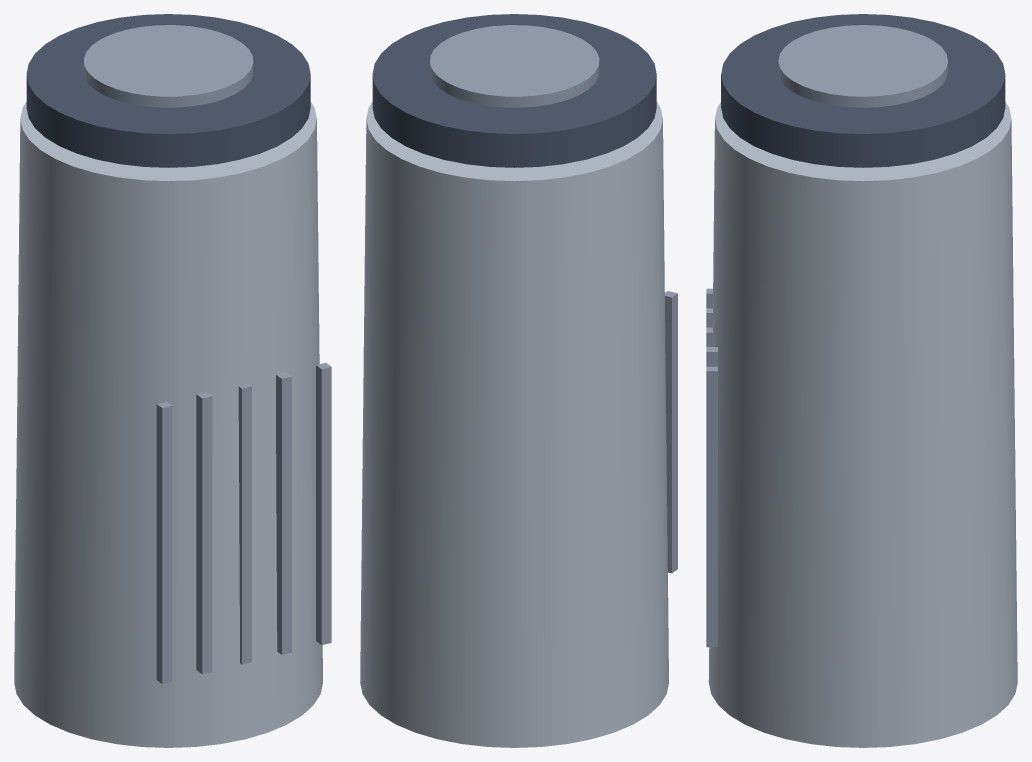
The model's file is airpurifier.glb.
3 views of the same model, side by side, from view 1: azimuth 30°, elevation 25°; view 2: azimuth 150°, elevation 25°; view 3: azimuth 270°, elevation 25° (orthographic).
Visible parts, largest first — view 1: airpurifier; view 2: airpurifier; view 3: airpurifier.
Boxes of the visible parts, bbox=[...] form: airpurifier: bbox=[14, 14, 331, 747]; airpurifier: bbox=[360, 14, 677, 747]; airpurifier: bbox=[706, 14, 1017, 747].
Bounding box in the file's own units: 0.3196 × 0.7098 × 0.3222.
